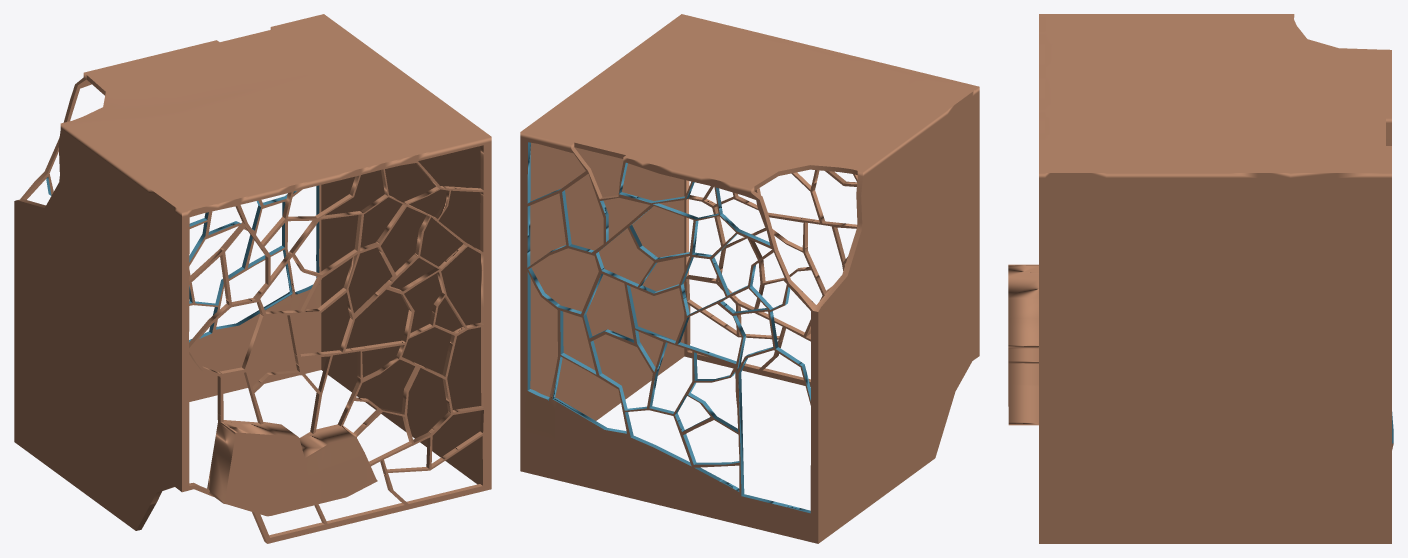
The model's file is Nexus_B.fbx.
3 views of the same model, side by side, from view 1: azimuth 30°, elevation 25°; view 2: azimuth 150°, elevation 25°; view 3: azimuth 270°, elevation 25° (orthographic). The views are drawn at different scales.
Visible parts, largest first — view 1: Collection_Room77; view 2: Collection_Room77; view 3: Collection_Room77.
Boxes of the visible parts, box(x1,y1,x2,y2) form: Collection_Room77: box(14, 14, 491, 543); Collection_Room77: box(520, 14, 979, 543); Collection_Room77: box(1008, 14, 1393, 543).
Bounding box in the file's own units: 238 × 259 × 244.
